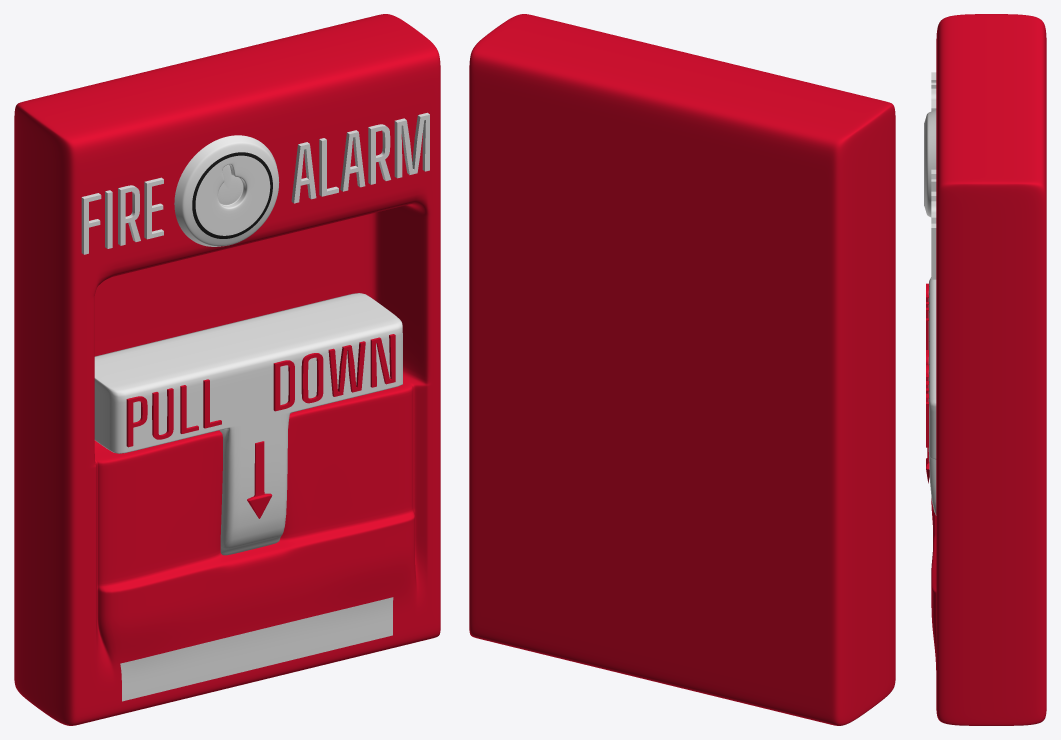
The model's file is FireAlarm.fbx.
3 views of the same model, side by side, from view 1: azimuth 30°, elevation 25°; view 2: azimuth 150°, elevation 25°; view 3: azimuth 270°, elevation 25° (orthographic). The views are drawn at different scales.
Parts seen in each view (by area): view 1: Circle; view 2: Circle; view 3: Circle.
Part boxes in pixels (x1,y1,x2,y2): Circle: (14, 14, 440, 725); Circle: (469, 14, 895, 725); Circle: (924, 14, 1046, 725).
Bounding box in the file's own units: 198 × 294 × 60.2.
